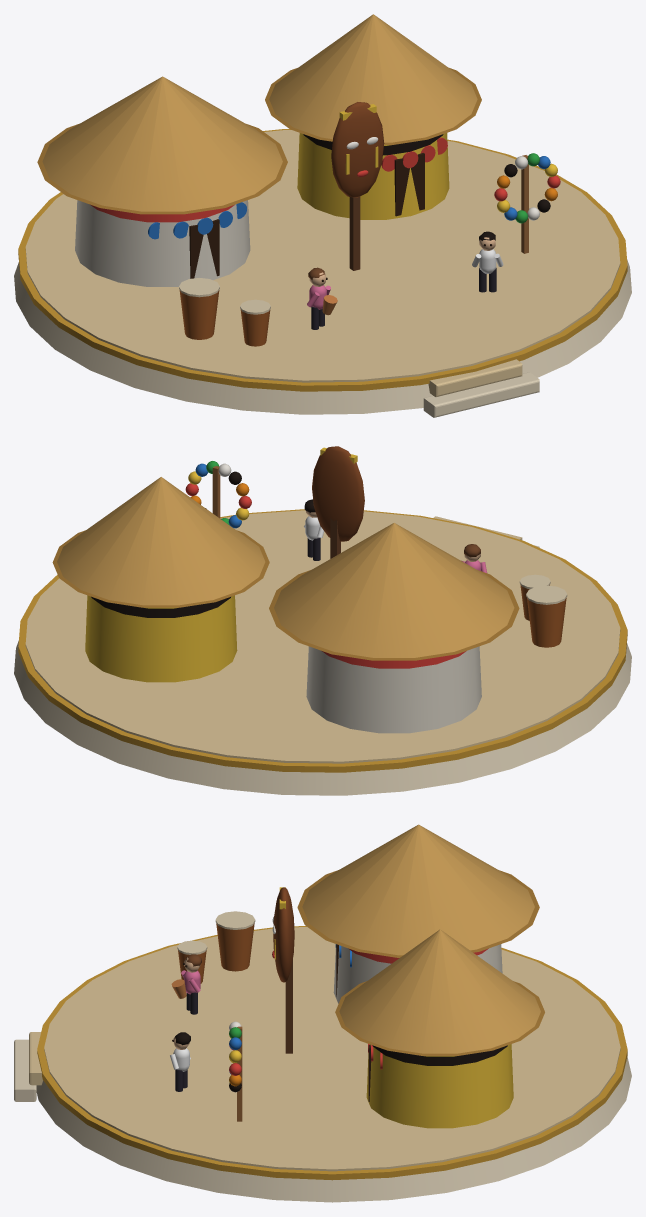
The model's file is africanVillage.glb.
3 views of the same model, one above another, from view 1: azimuth 30°, elevation 25°; view 2: azimuth 150°, elevation 25°; view 3: azimuth 270°, elevation 25° (orthographic). The views are drawn at different scales.
Parts seen in each view (by area): view 1: part_000; view 2: part_000; view 3: part_000.
Boxes of the visible parts, x1,y1,x2,y2 form: part_000: (14,14,631,417); part_000: (14,446,631,795); part_000: (14,824,631,1202).
Size of the model in its own units: 11.12 by 4.05 by 11.47.
